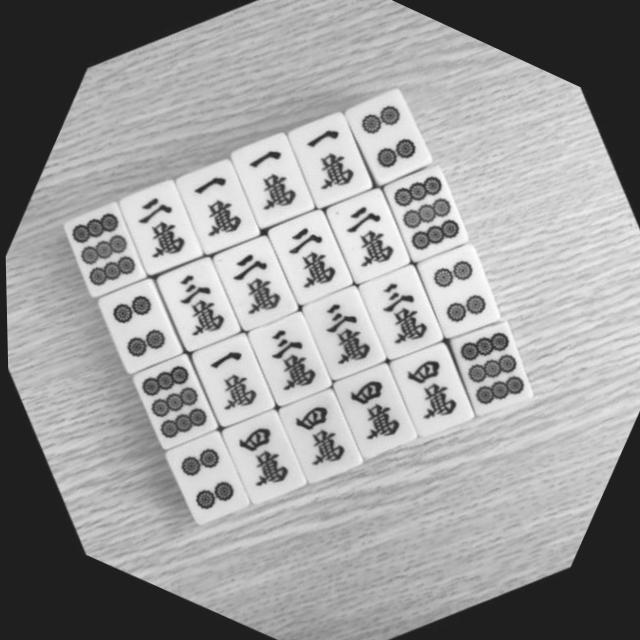sc1: (269, 100, 388, 218), (173, 324, 287, 436), (160, 152, 272, 262), (215, 125, 326, 235)
sc2: (97, 168, 221, 288), (247, 197, 369, 316), (196, 226, 312, 340), (312, 182, 424, 292)
sc3: (136, 246, 255, 364), (341, 256, 455, 368), (231, 305, 343, 415), (286, 278, 397, 388)
sc4: (312, 354, 431, 469), (203, 400, 318, 514), (372, 334, 486, 446), (262, 382, 374, 492)
sd4: (329, 78, 445, 192), (80, 270, 195, 384), (401, 236, 513, 346), (148, 423, 259, 533)
sd9: (110, 342, 234, 463), (364, 153, 487, 274), (429, 310, 552, 430), (42, 191, 162, 308)
